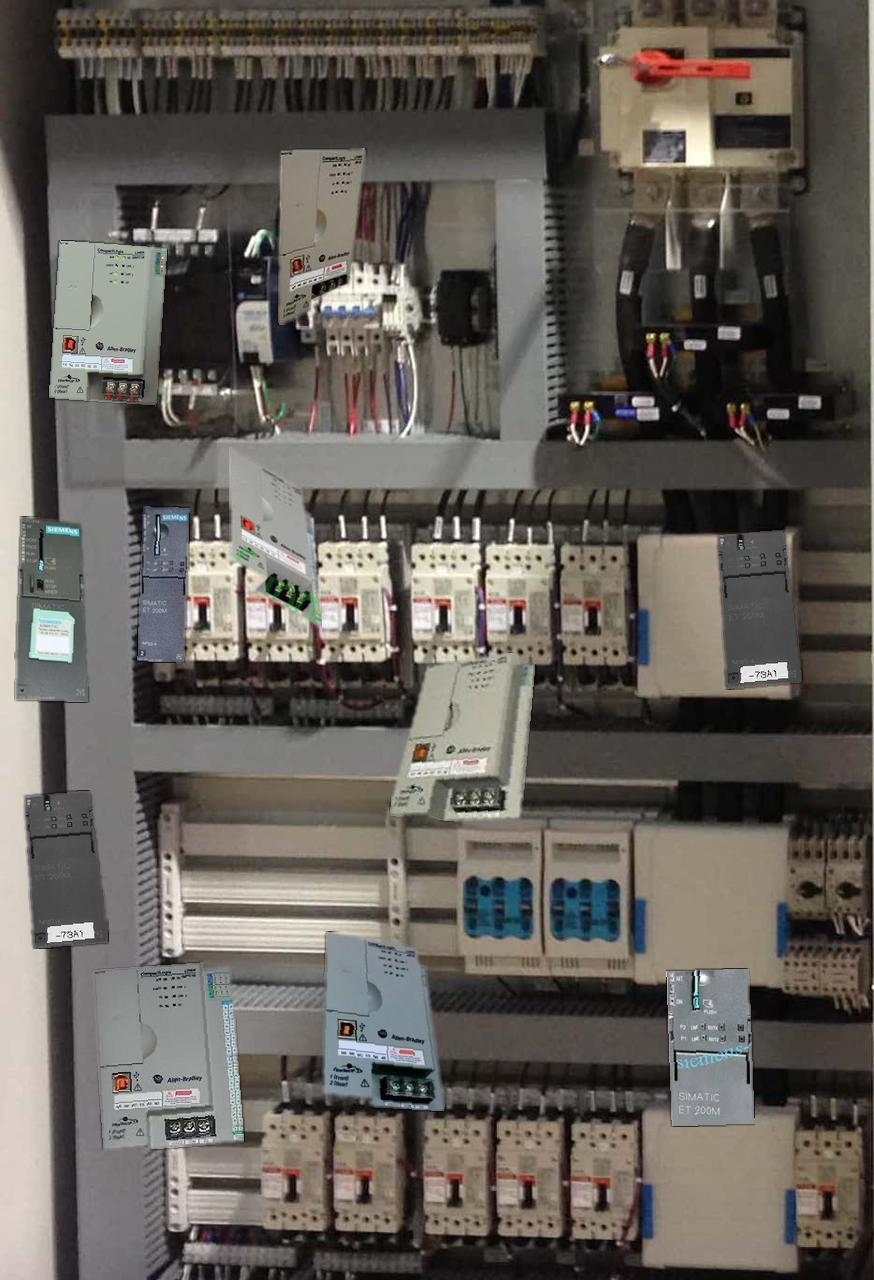AllenBradley: (94, 962, 243, 1149), (391, 653, 534, 820), (323, 932, 444, 1110), (49, 240, 166, 404), (229, 447, 321, 627), (278, 148, 365, 324)
Siemens: (16, 517, 87, 701)
